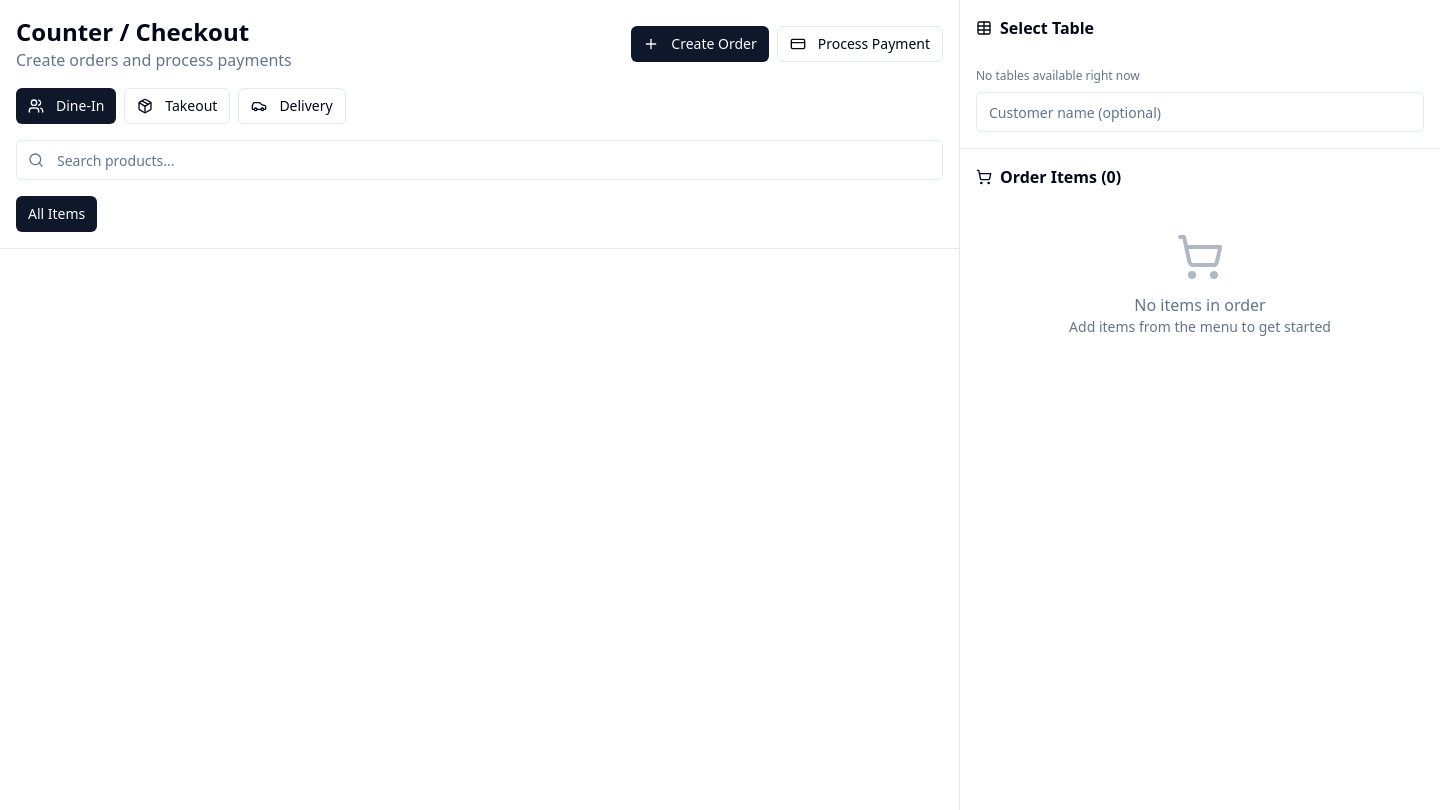
Test case: CounterInterface (Checkout) › T239: Checkout_ProcessesPayment › should switch to payment tab when Process Payment is clicked
Expected: the heading "Counter / Checkout" is shown, [16,15,249,48]
Click the button "Process Payment" at coordinates (860, 44), box [777,26,943,62]
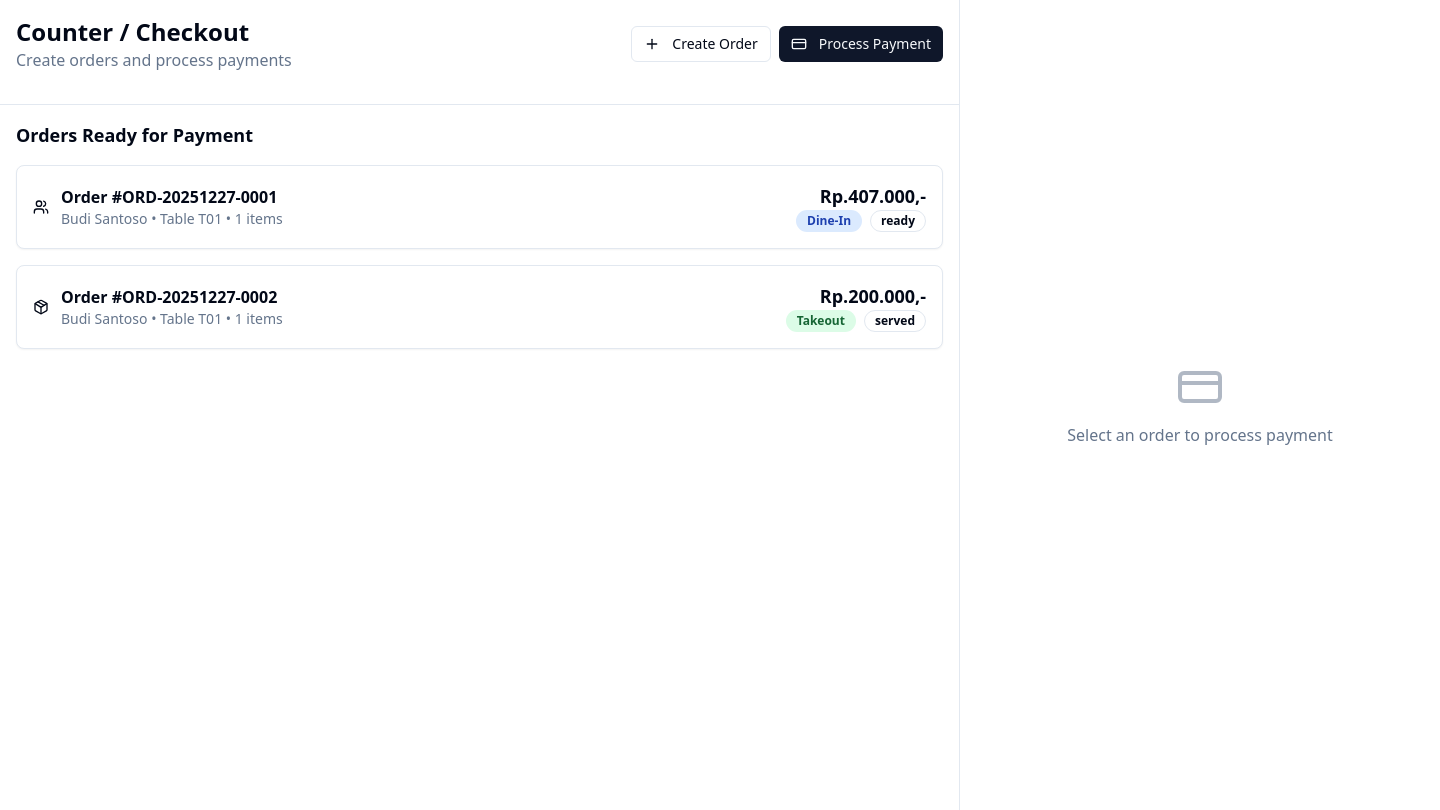
Now the heading "Orders Ready for Payment" is shown, box [16,123,253,147]
